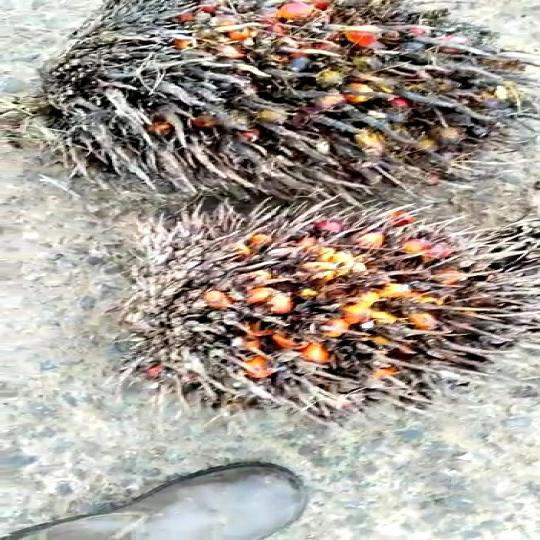terlalu masak: (13, 0, 540, 203), (97, 204, 540, 412)
